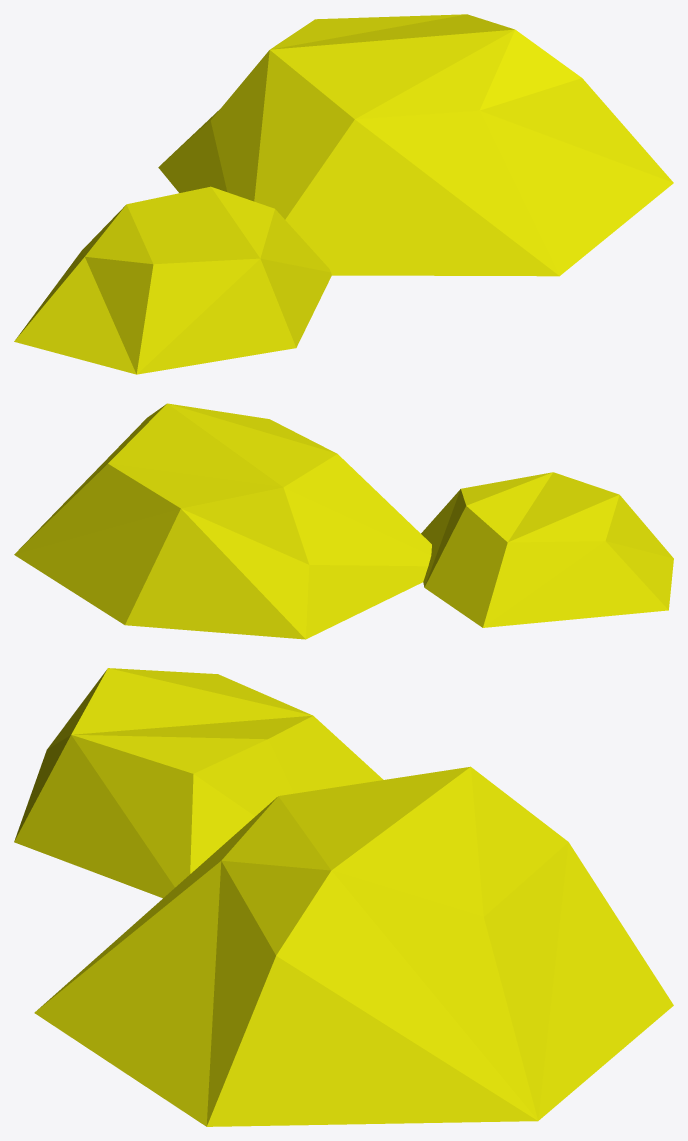
Rendered from SM_Generic_Small_Rocks_03.glb.
3 views of the same model, one above another, from view 1: azimuth 30°, elevation 25°; view 2: azimuth 150°, elevation 25°; view 3: azimuth 270°, elevation 25° (orthographic). The views are drawn at different scales.
Parts seen in each view (by area): view 1: SM_Generic_Small_Rocks_03; view 2: SM_Generic_Small_Rocks_03; view 3: SM_Generic_Small_Rocks_03.
Boxes of the visible parts, x1,y1,x2,y2 form: SM_Generic_Small_Rocks_03: (14,14,673,374); SM_Generic_Small_Rocks_03: (14,403,673,639); SM_Generic_Small_Rocks_03: (14,668,673,1126).
Size of the model in its own units: 0.4822 by 0.1016 by 0.325.
Materials: 1 (1 with a texture image).
